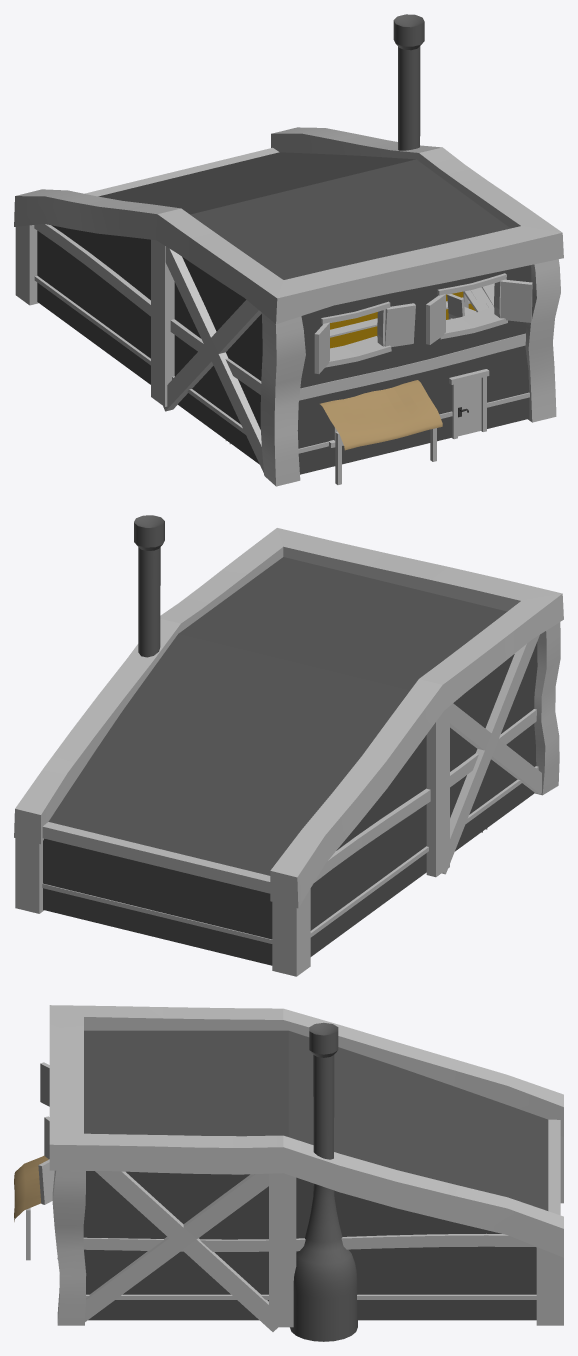
Rendered from Forge.fbx.
3 renders of one model, top to bottom at view 1: azimuth 30°, elevation 25°; view 2: azimuth 150°, elevation 25°; view 3: azimuth 270°, elevation 25°, orthographic. The views are drawn at different scales.
Visible parts, largest first — view 1: Stavnya4, Walls, Cloth_outdoor, Furnace, Wood_parts, Stavnya1, Door, Stavnya2, Planks, Stavnya, Stavnya3; view 2: Walls, Stavnya4, Furnace; view 3: Walls, Stavnya4, Furnace, Cloth_outdoor, Stavnya1.
Boxes of the visible parts, bbox=[...] form: Stavnya4: bbox=[14, 127, 563, 486]; Walls: bbox=[37, 152, 531, 474]; Cloth_outdoor: bbox=[320, 380, 442, 484]; Furnace: bbox=[393, 14, 424, 150]; Wood_parts: bbox=[225, 283, 494, 444]; Stavnya1: bbox=[500, 279, 532, 322]; Door: bbox=[458, 378, 481, 436]; Stavnya2: bbox=[384, 303, 415, 346]; Planks: bbox=[330, 291, 475, 348]; Stavnya: bbox=[426, 294, 445, 344]; Stavnya3: bbox=[314, 322, 329, 373]; Walls: bbox=[43, 557, 537, 965]; Stavnya4: bbox=[14, 528, 563, 976]; Furnace: bbox=[134, 515, 164, 657]; Walls: bbox=[83, 1030, 548, 1320]; Stavnya4: bbox=[49, 1005, 563, 1331]; Furnace: bbox=[290, 1022, 357, 1341]; Cloth_outdoor: bbox=[14, 1156, 48, 1260]; Stavnya1: bbox=[38, 1159, 54, 1204].
Size of the model in its own units: 12.57 by 12.07 by 20.16.
